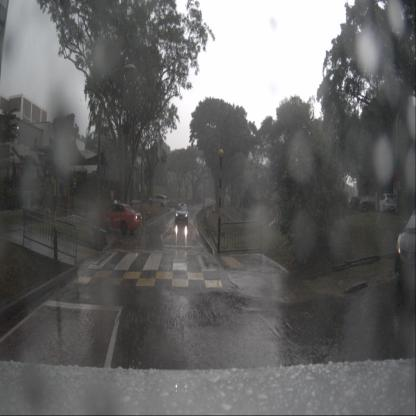human-pedestrian-adult: (110, 189, 115, 209)
vehicle-car: (393, 208, 416, 285), (92, 202, 143, 236), (378, 192, 396, 214), (174, 202, 189, 224), (148, 194, 168, 208), (348, 196, 360, 208)
